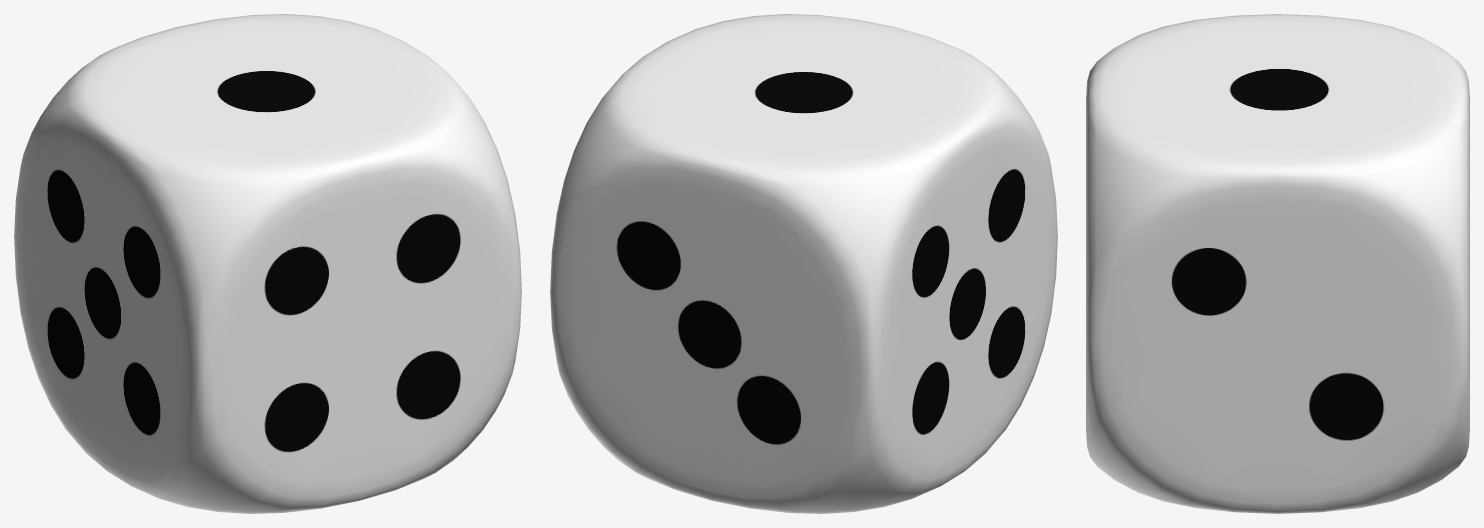
File: new_centered_dice.glb
3 views of the same model, side by side, from view 1: azimuth 30°, elevation 25°; view 2: azimuth 150°, elevation 25°; view 3: azimuth 270°, elevation 25° (orthographic).
Parts seen in each view (by area): view 1: Dice_001; view 2: Dice_001; view 3: Dice_001.
Part boxes in pixels (box(x1,y1,x2,y2)): Dice_001: box(14, 14, 521, 513); Dice_001: box(550, 14, 1057, 513); Dice_001: box(1086, 14, 1469, 513).
Bounding box in the file's own units: 0.5 × 0.5 × 0.5.
Materials: 1 (1 with a texture image).
